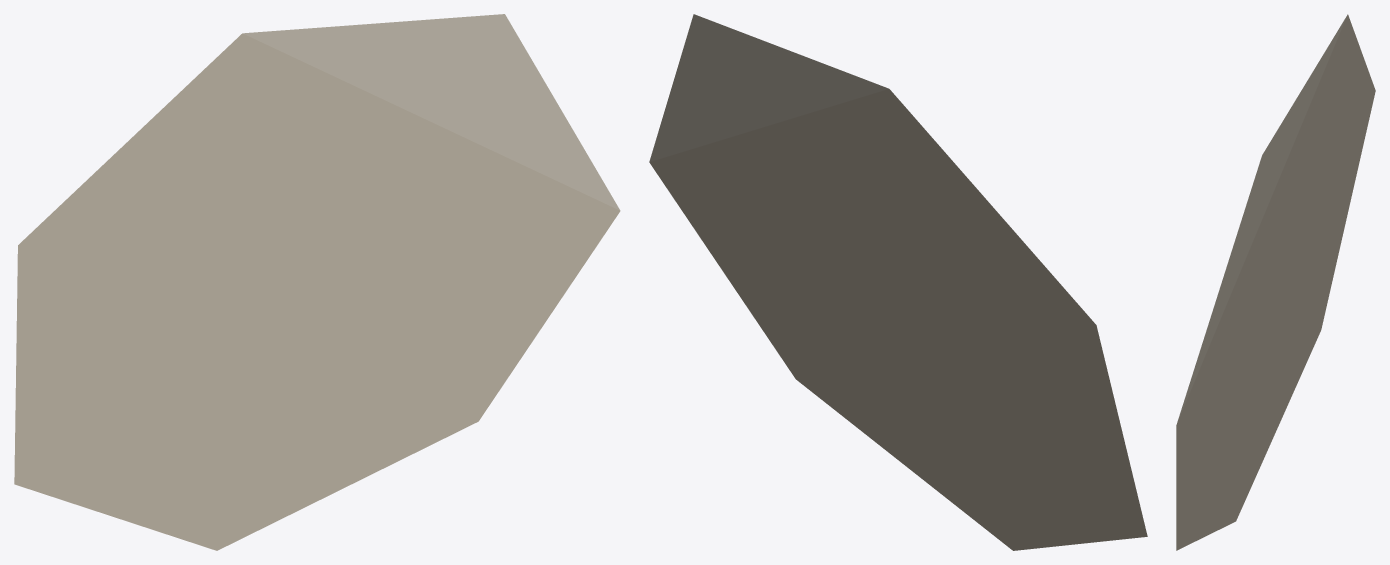
The model's file is SM_MS3_Feed_Eco_00_0.fbx.
3 views of the same model, side by side, from view 1: azimuth 30°, elevation 25°; view 2: azimuth 150°, elevation 25°; view 3: azimuth 270°, elevation 25° (orthographic). The views are drawn at different scales.
Parts seen in each view (by area): view 1: SM_MS3_Feed_Eco_00_0; view 2: SM_MS3_Feed_Eco_00_0; view 3: SM_MS3_Feed_Eco_00_0.
Part boxes in pixels (<box>): SM_MS3_Feed_Eco_00_0: <box>14,14,620,550</box>; SM_MS3_Feed_Eco_00_0: <box>649,14,1147,550</box>; SM_MS3_Feed_Eco_00_0: <box>1176,14,1375,550</box>.
Size of the model in its own units: 2.59 by 0.6948 by 2.11.
